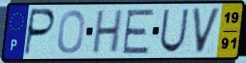E: (121, 7, 157, 55)
H: (90, 8, 125, 55)
O: (56, 9, 87, 55)
P: (22, 8, 57, 58)
U: (158, 8, 191, 54)
V: (191, 6, 223, 56)
